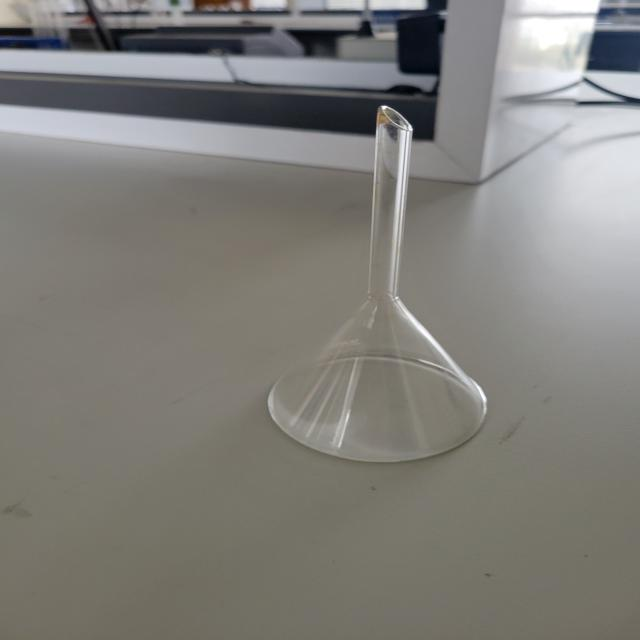Funnel: (242, 97, 543, 475)
